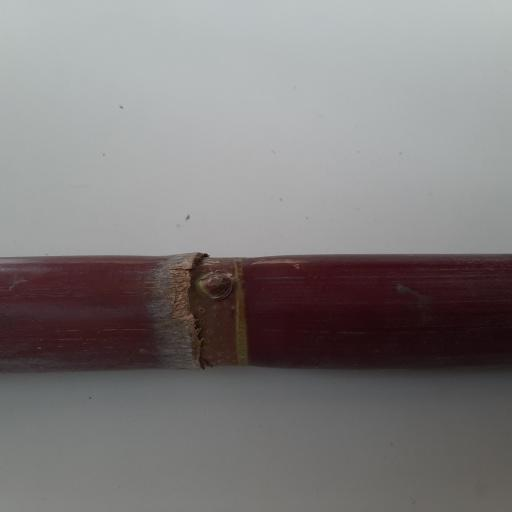Bud: (196, 271, 235, 299)
